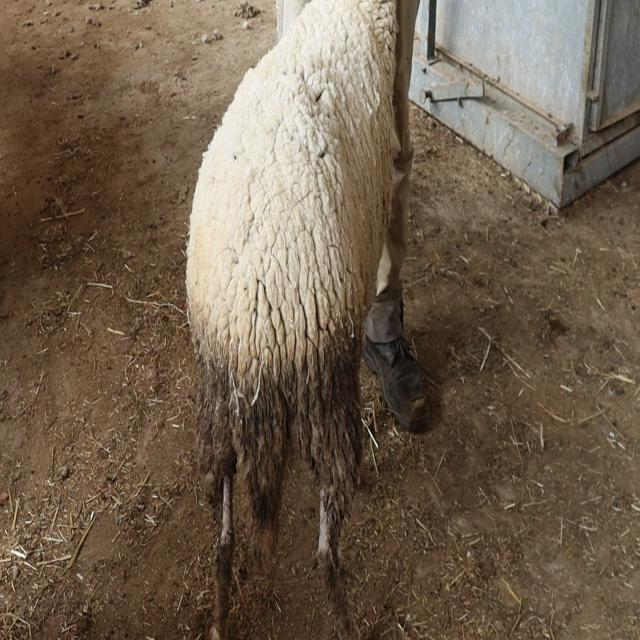Score_4: (186, 0, 399, 639)
